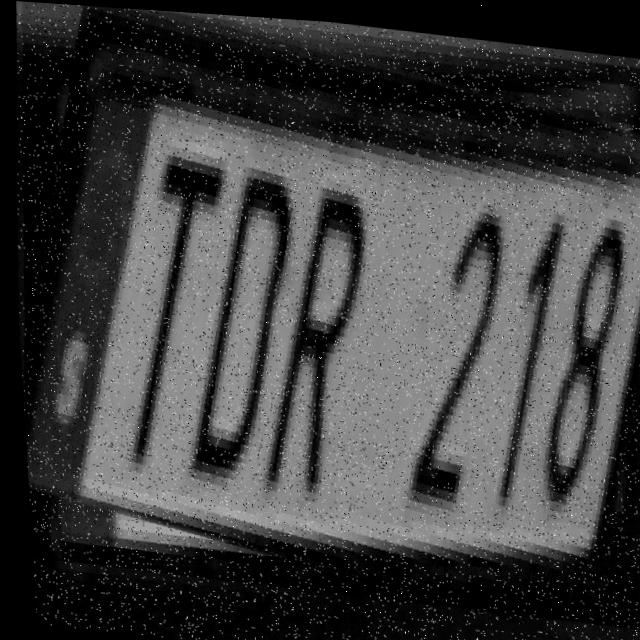LicensePlate: (0, 0, 640, 624)
